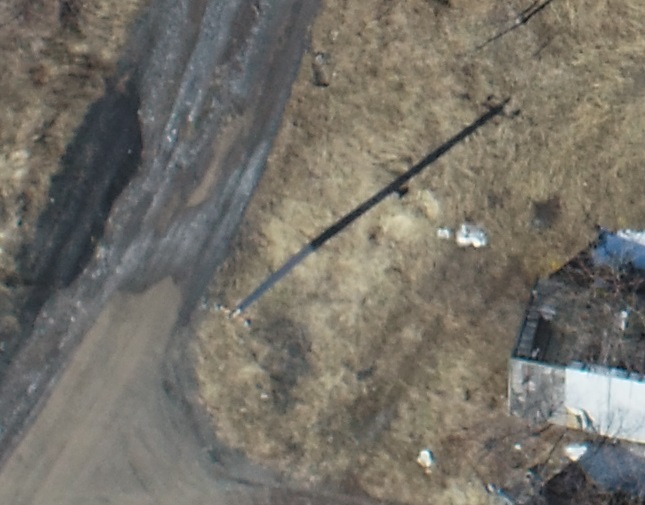opora: (219, 197, 379, 329)
